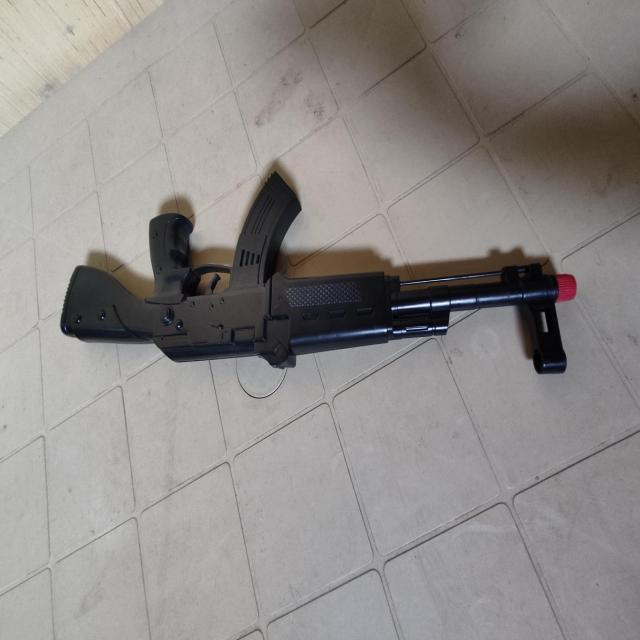rifle: (61, 169, 576, 376)
